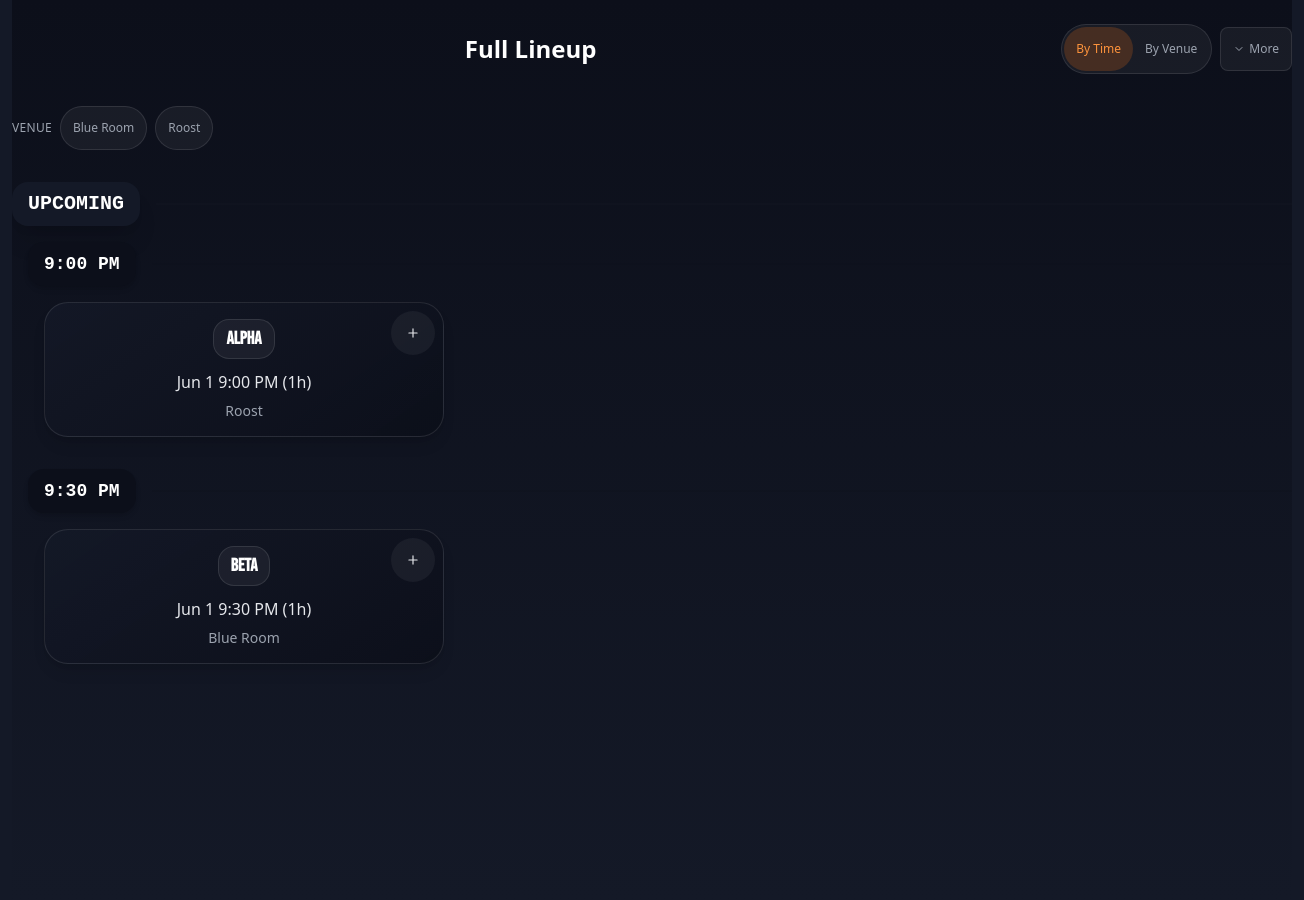
it: ScheduleView — venue-lane view › groups the lineup by venue when "By venue" is selected
This screenshot has width=1304, height=900.
Click the button "By venue" at x=1171, y=49, box [1133,27,1209,71]
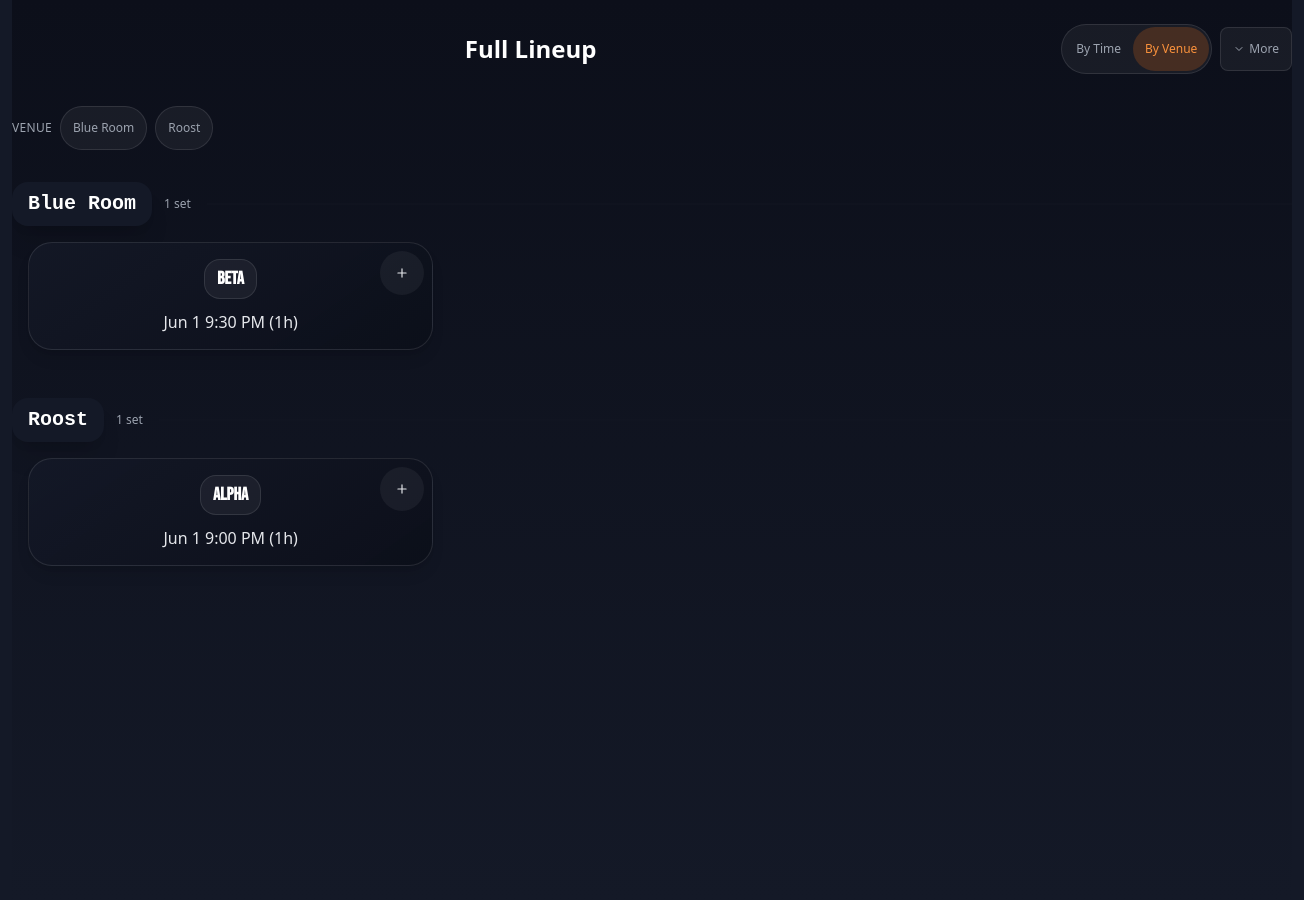
Check: the heading "Roost" is shown, box [12,398,104,442]
Check: the link "Alpha" is shown, box [213,484,248,505]
Check: the link "Beta" is shown, box [217,268,244,289]
